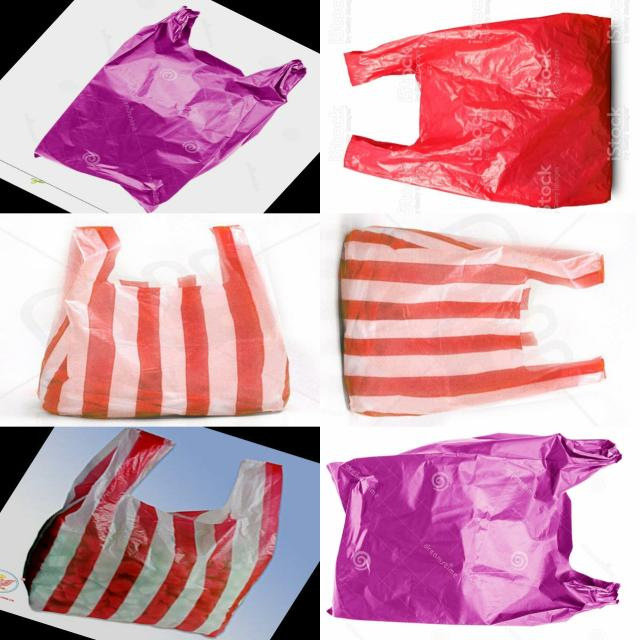Single-layer Plastic: (328, 434, 622, 624), (35, 6, 306, 212), (24, 429, 283, 636), (344, 12, 612, 208), (339, 226, 604, 415), (38, 225, 290, 418)
